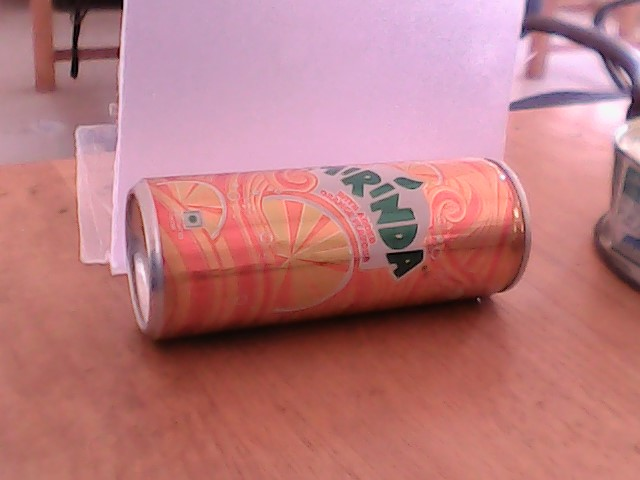Metal: (119, 166, 540, 330)
